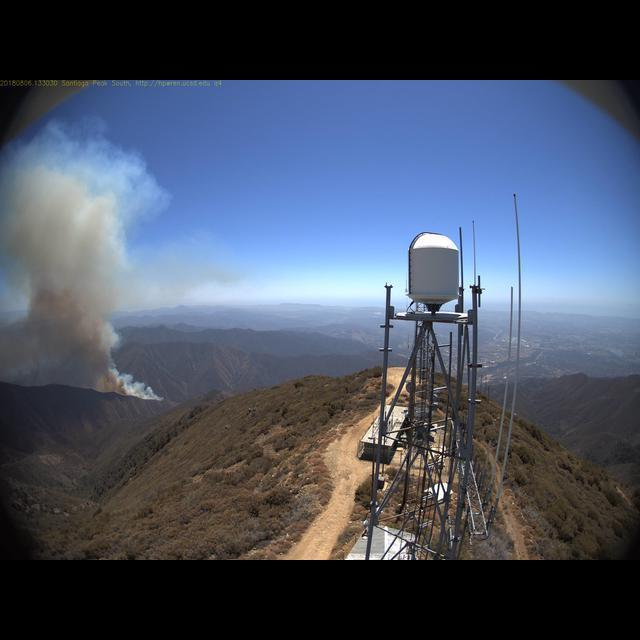Smoke: (6, 146, 163, 402)
